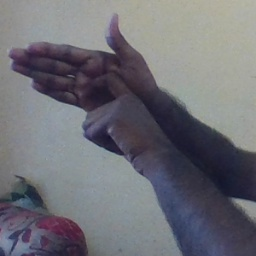R: (7, 11, 156, 153)
